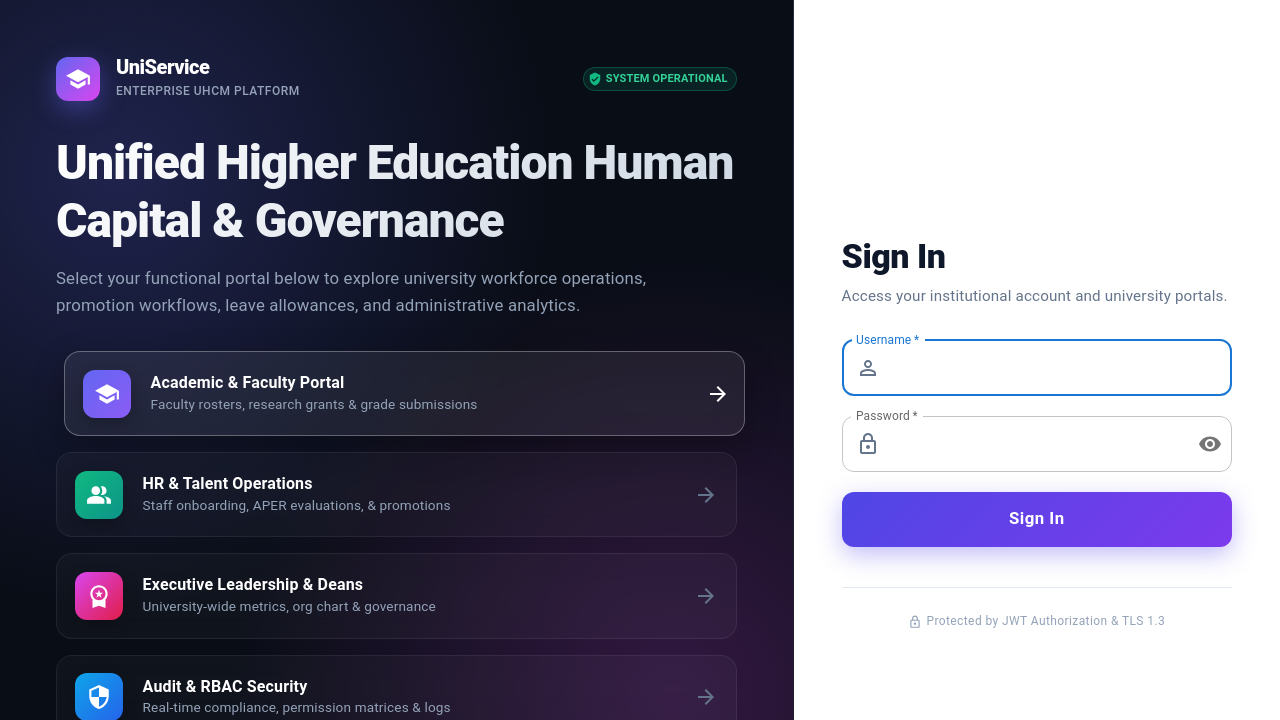
LoginPage › shows an error message when login fails
This screenshot has width=1280, height=720.
Type "jdoe" into the field labelled "Username *" at (1060, 368), box [888,340,1232,396]
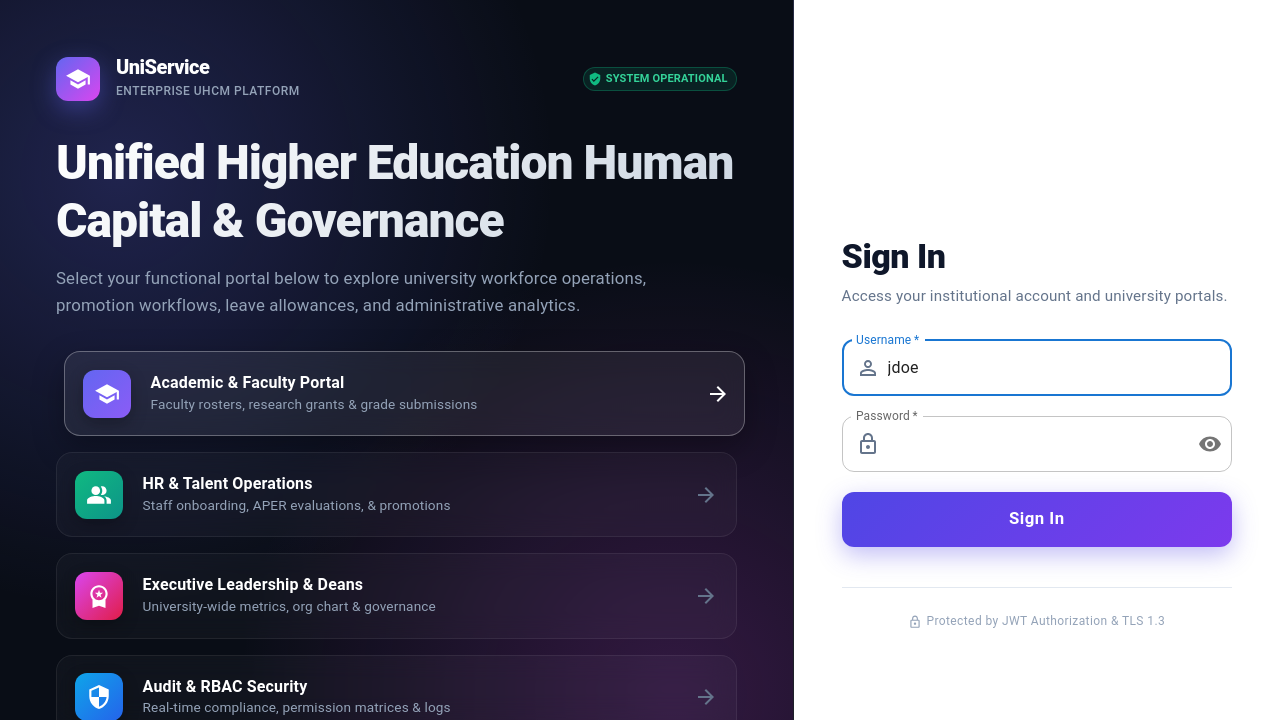
Type "wrong" into the password field labelled "Password *" at (1035, 444), box [888,416,1182,472]
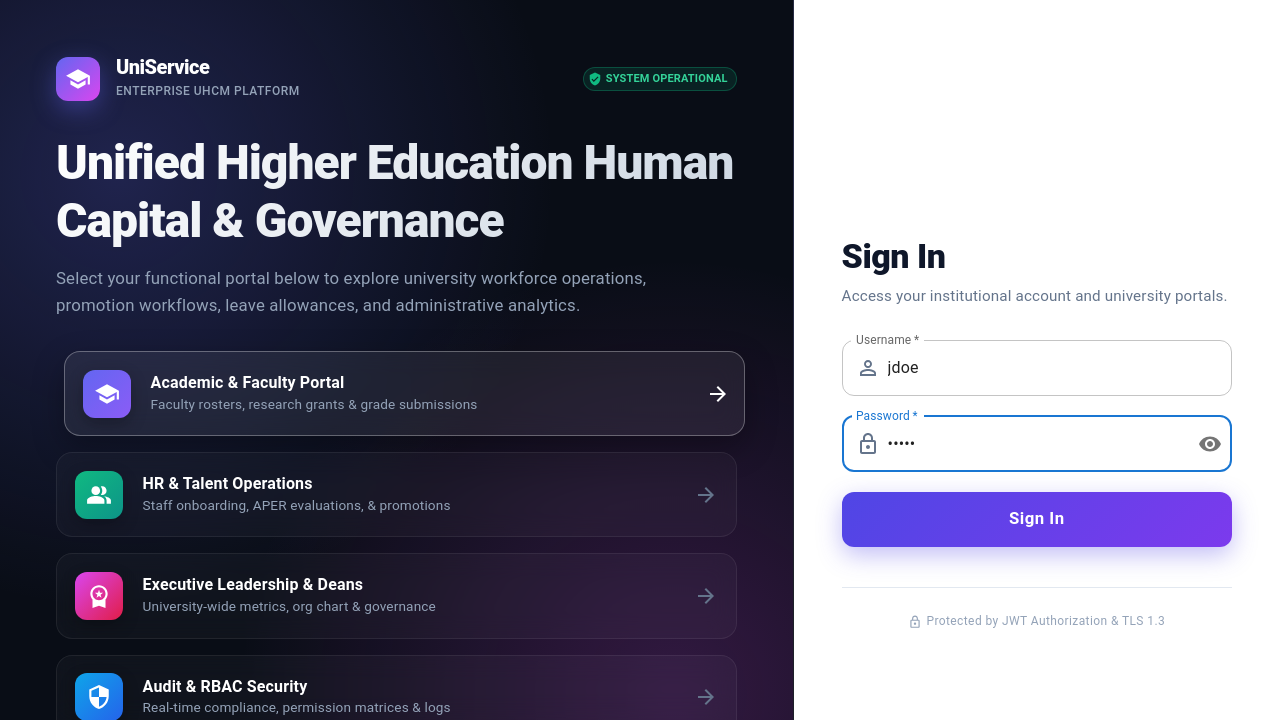
Click the button "Sign In" at (1037, 519), box [842,492,1232,547]
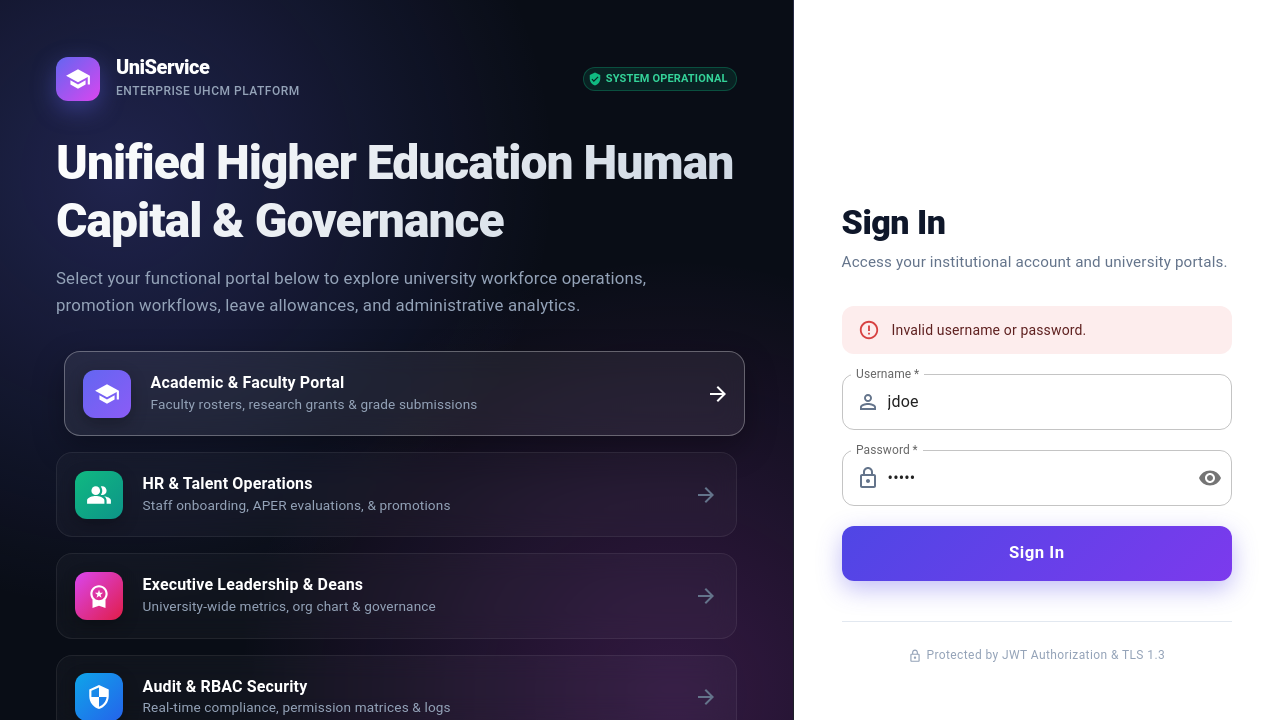
Result: the text "Invalid username or password." is shown at [892,322,1086,338]
